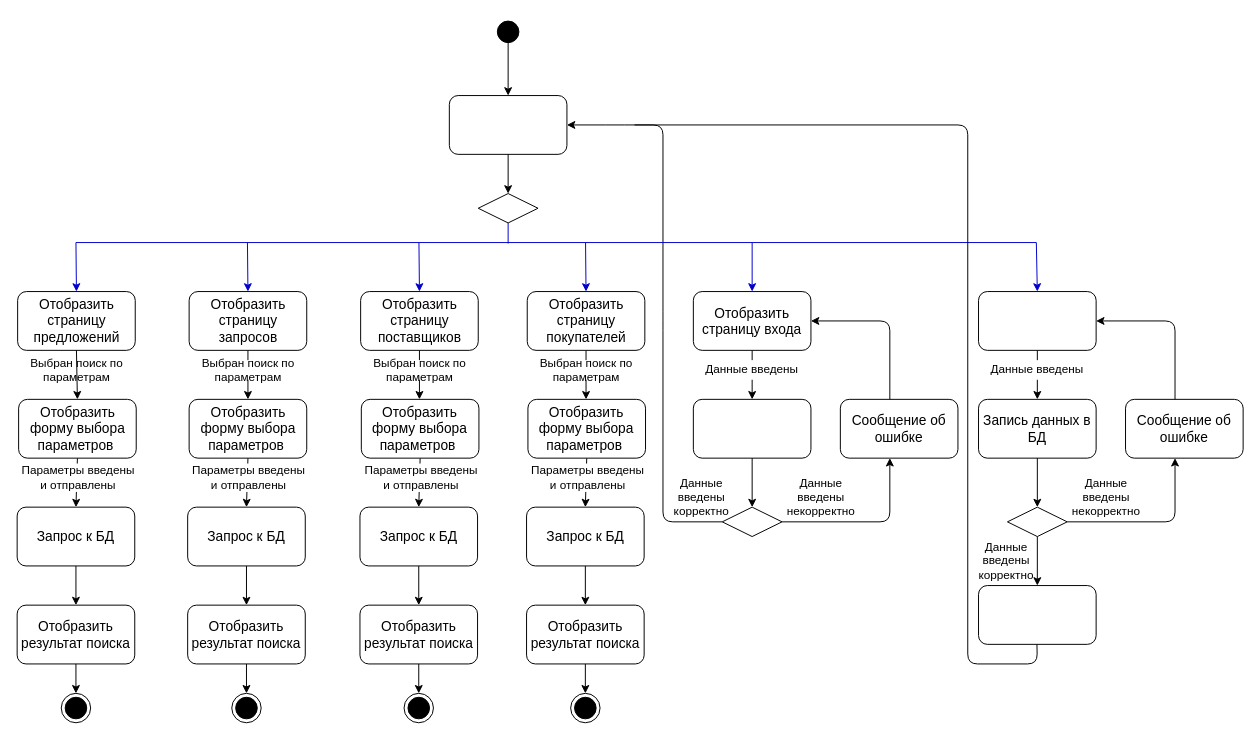
Image size: 1260x740. Some labels were removed from this diagram. Here are the shapes that lost their labels. From the top down, the centre of each, then its label:
(507,124): Отобразить главную страницу
(1037,320): Отобразить страницу регистрации
(751,428): Проверка данных в БД
(1037,614): Добавление #new к адресу
